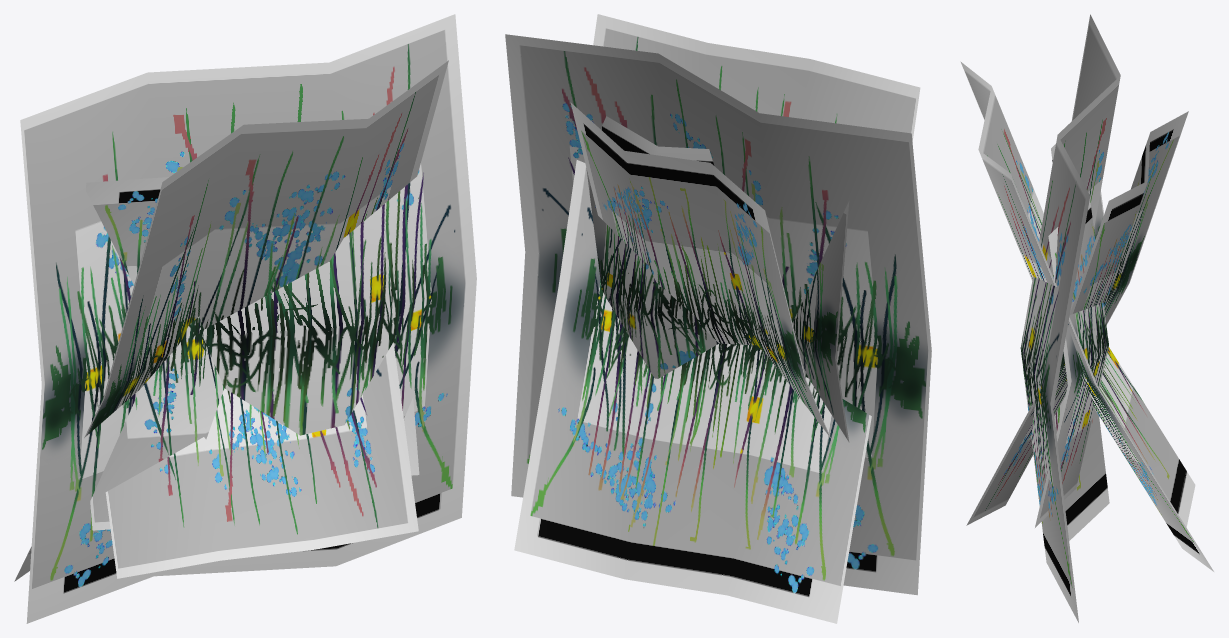
Rendered from Floatgrass2.fbx.
3 renders of one model, left to right at view 1: azimuth 30°, elevation 25°; view 2: azimuth 150°, elevation 25°; view 3: azimuth 270°, elevation 25°, orthographic. The views are drawn at different scales.
Visible parts, largest first — view 1: Plane.001; view 2: Plane.001; view 3: Plane.001.
Part boxes in pixels (x1,y1,x2,y2): Plane.001: [14, 14, 476, 623]; Plane.001: [505, 14, 931, 623]; Plane.001: [960, 14, 1213, 622].
Bounding box in the file's own units: 345 × 381 × 204.
